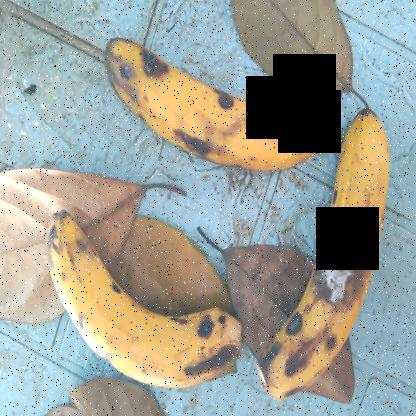overripe: (258, 76, 398, 409), (94, 32, 331, 179)
ripe: (34, 191, 246, 399)
rotten: (296, 210, 382, 340)
